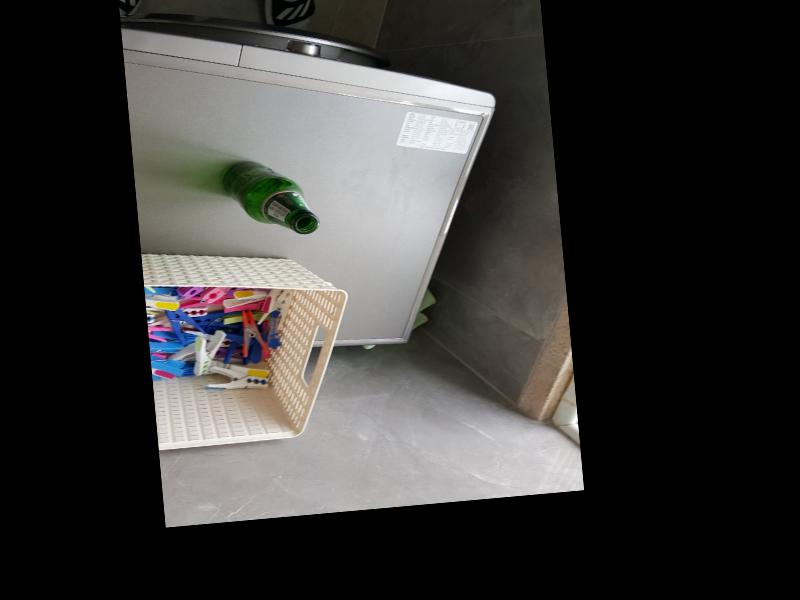Beer: (221, 154, 320, 239)
